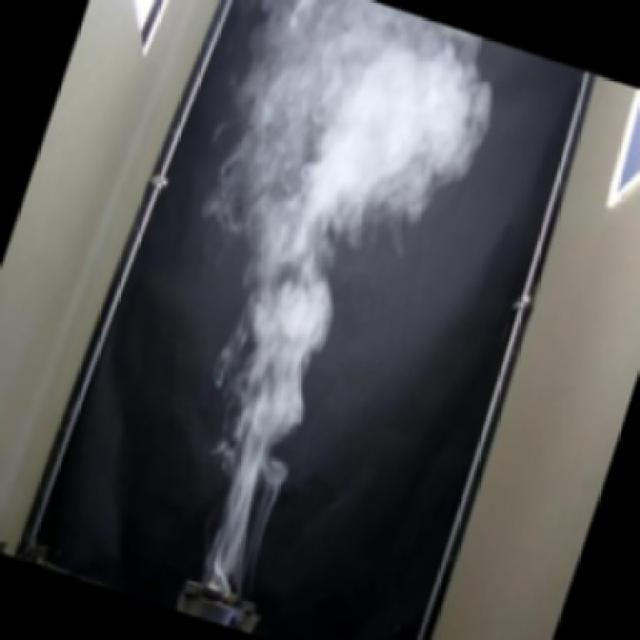smoke: (86, 0, 511, 602)
